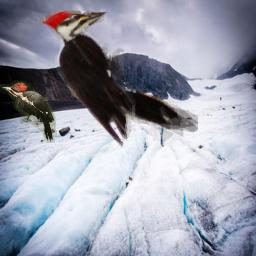Woodpecker: (39, 10, 198, 148), (0, 80, 58, 143)
